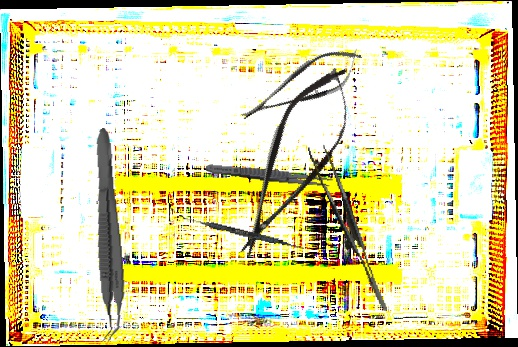Dressing Forceps: (205, 161, 334, 189)
Micro Scissor: (216, 52, 373, 272), (232, 37, 371, 135)
Spatula Surgical: (177, 214, 306, 251)
Tissue Forceps: (307, 138, 388, 320), (83, 127, 130, 343)
